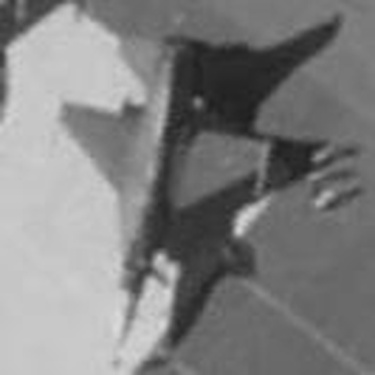airplane: (46, 27, 315, 367)
